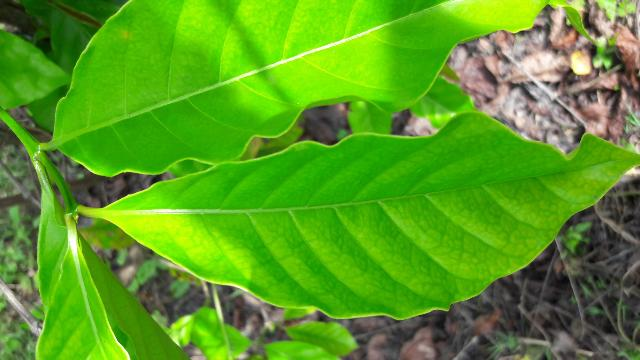healthy: (95, 115, 628, 321)
